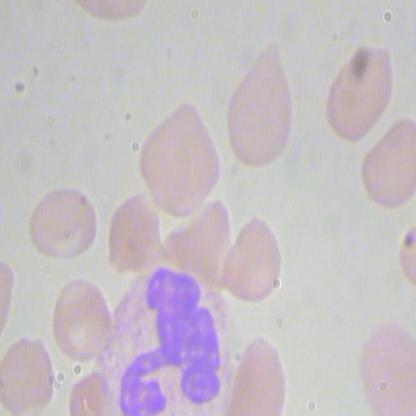RBC: (131, 97, 222, 224), (224, 41, 302, 170), (322, 40, 396, 146), (220, 198, 294, 304), (224, 309, 298, 415), (347, 309, 415, 415), (20, 185, 104, 265), (47, 277, 115, 367), (361, 117, 415, 214), (1, 335, 55, 413)
WBC: (96, 263, 239, 415)
